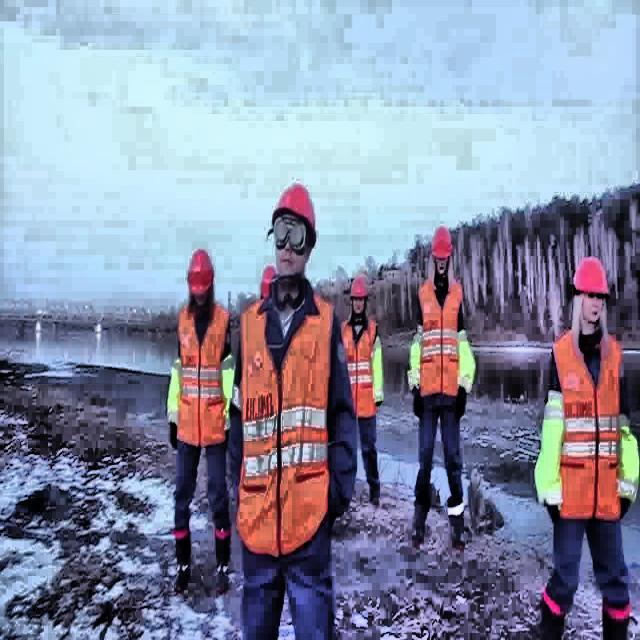safety_helmet: (274, 186, 315, 234), (570, 254, 608, 296), (188, 249, 214, 297), (432, 228, 452, 258), (260, 267, 276, 300), (347, 279, 369, 299)
safety_jacket: (238, 292, 334, 558), (550, 328, 624, 520), (177, 298, 230, 445), (419, 276, 465, 394), (340, 316, 380, 417)
